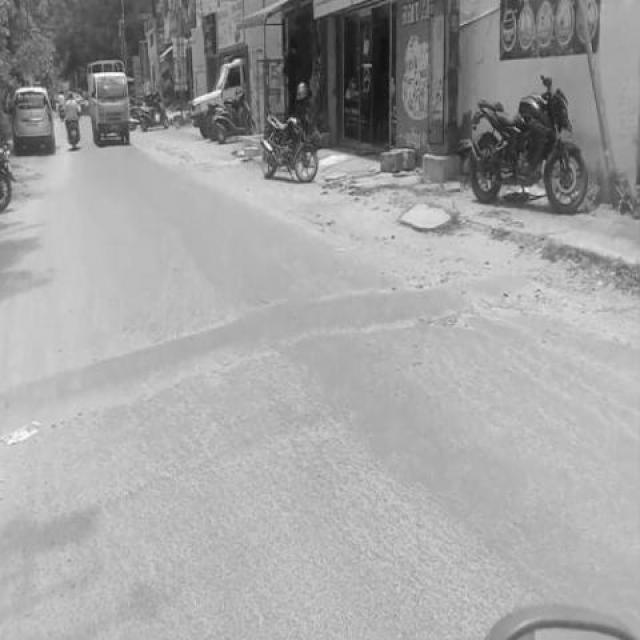Unmarked Bump: (0, 272, 511, 439)
